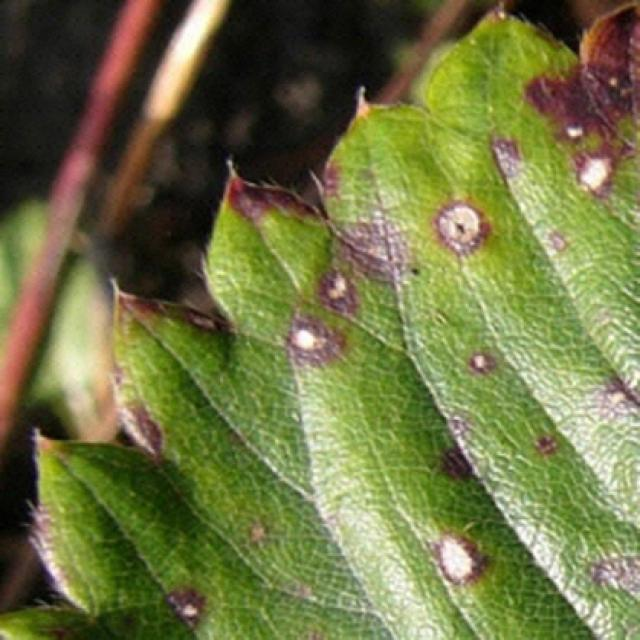Leaf Spot: (0, 0, 638, 638)
